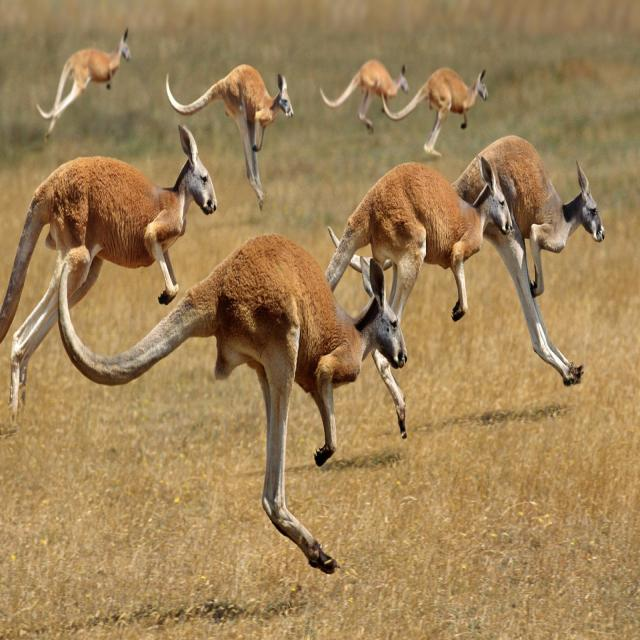Kangaroo: (54, 222, 412, 584), (0, 120, 219, 412), (317, 152, 513, 350), (160, 23, 303, 202), (17, 4, 142, 140), (381, 40, 494, 153)
